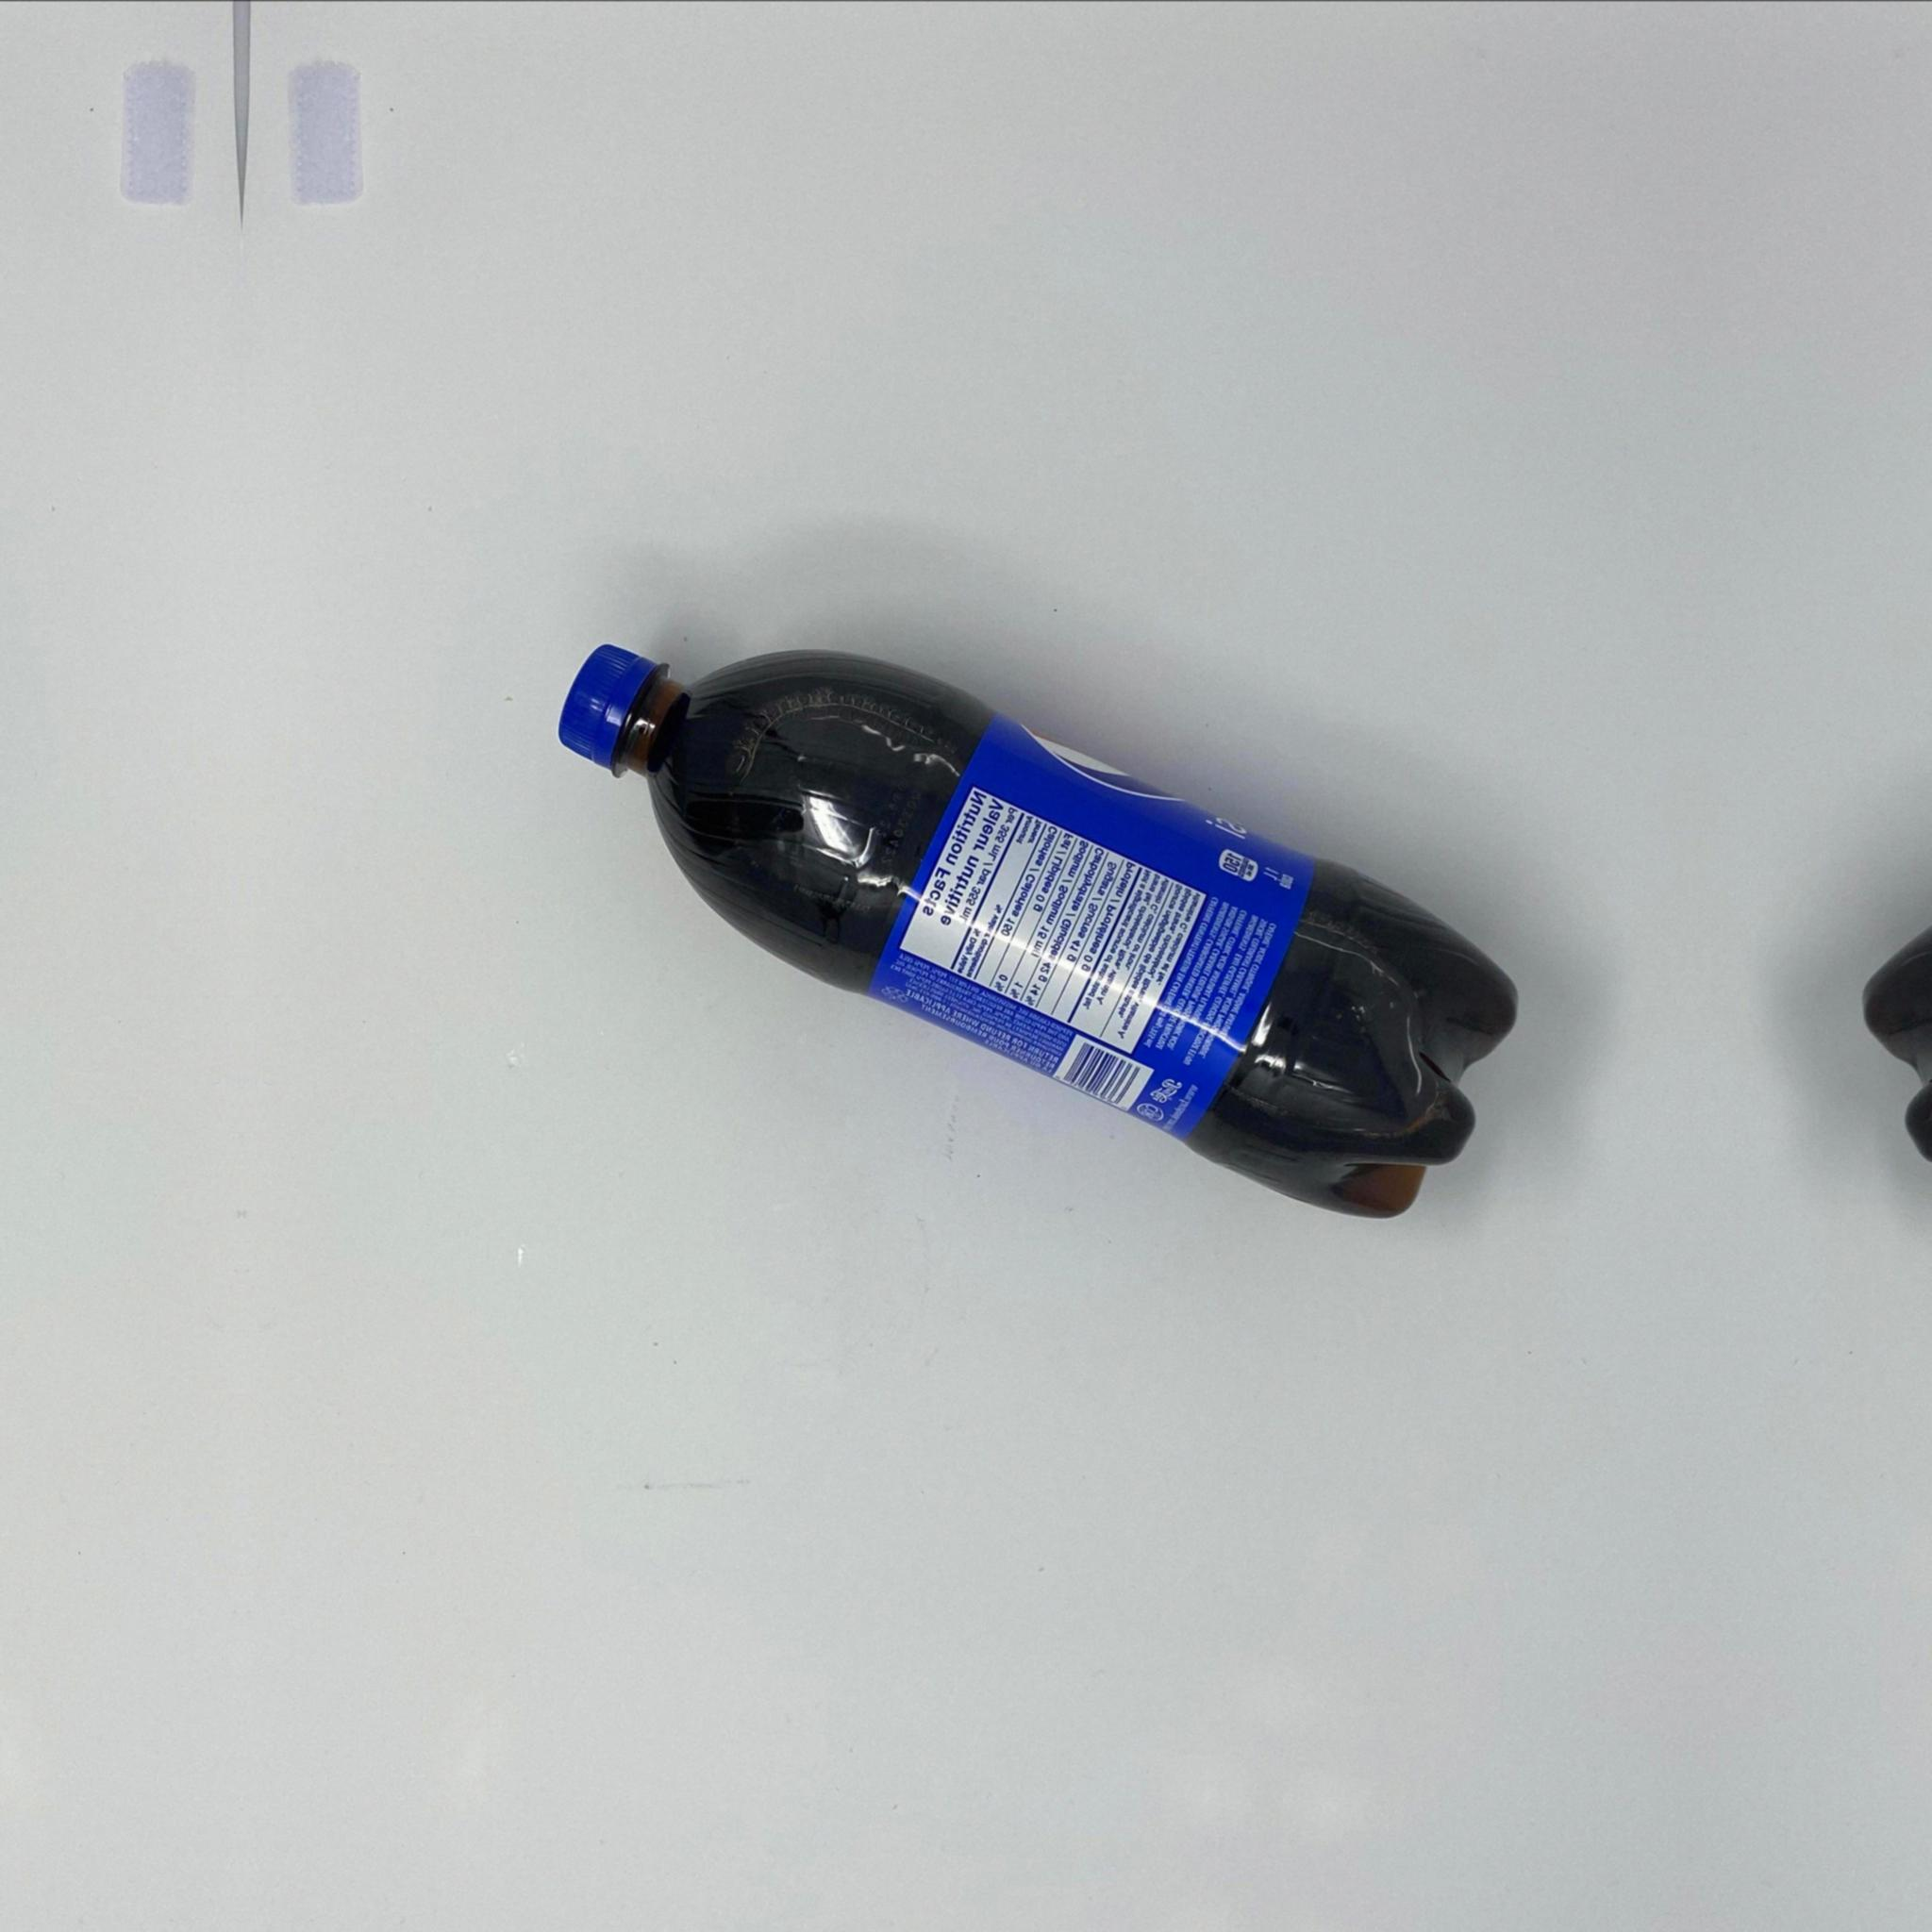PET: (557, 640, 1522, 1221)
pepsi: (557, 640, 1522, 1221)
plastic: (557, 640, 1522, 1221)
soft-drink: (557, 640, 1522, 1221)
